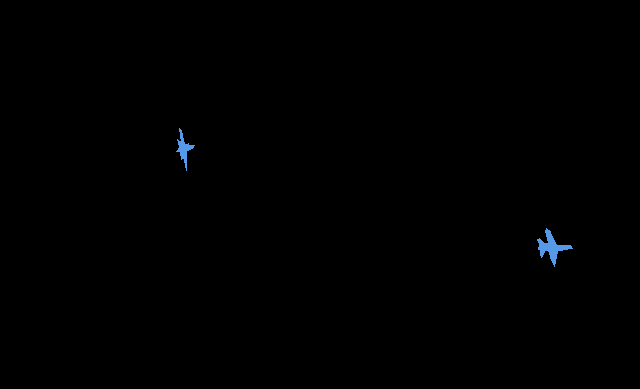Airplane: (537, 228, 573, 267), (176, 128, 195, 170)
